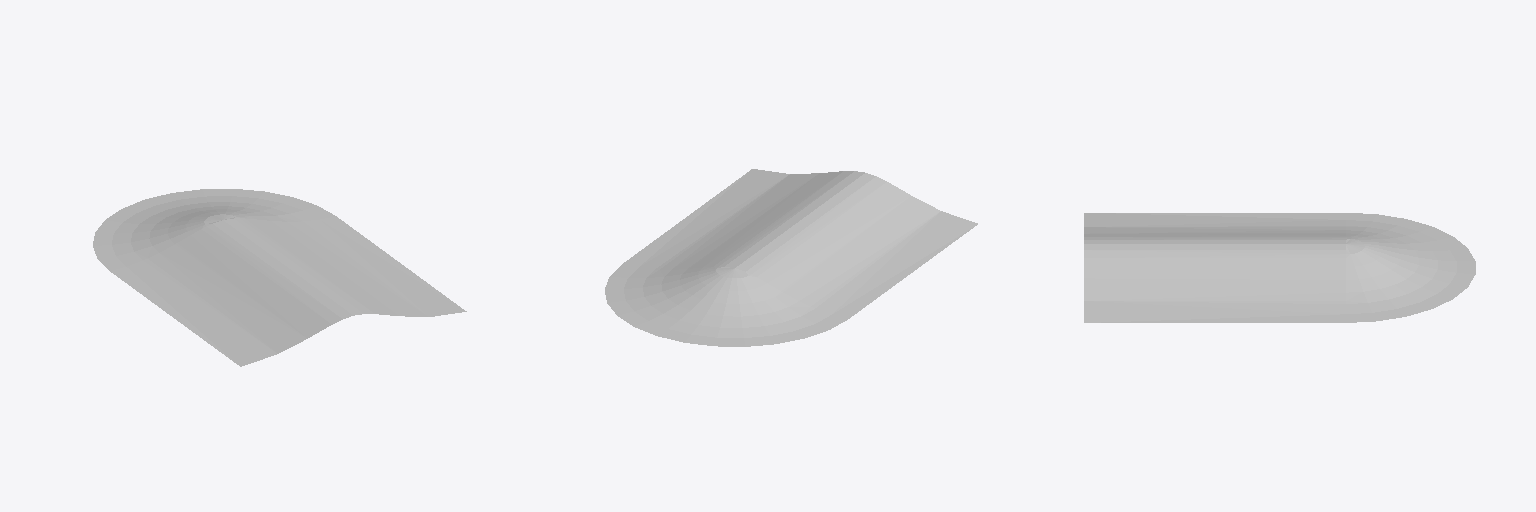
The model's file is Prop_Ground_Bump_Row_End.obj.
3 views of the same model, side by side, from view 1: azimuth 30°, elevation 25°; view 2: azimuth 150°, elevation 25°; view 3: azimuth 270°, elevation 25° (orthographic).
Parts seen in each view (by area): view 1: object1; view 2: object1; view 3: object1.
Boxes of the visible parts, x1=… form: object1: x1=93, y1=189, x2=466, y2=366; object1: x1=605, y1=169, x2=977, y2=346; object1: x1=1084, y1=213, x2=1475, y2=322.
Bounding box in the file's own units: 0.5 × 0.05 × 0.7482.